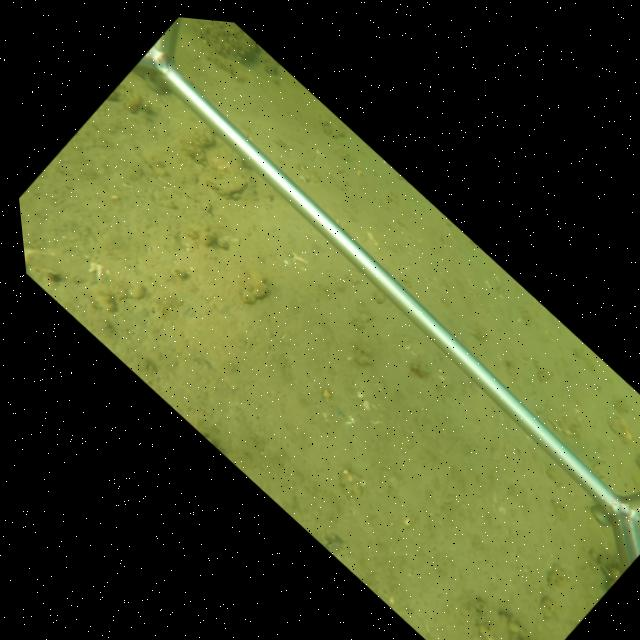Oyster-Open: (209, 174, 249, 201)
